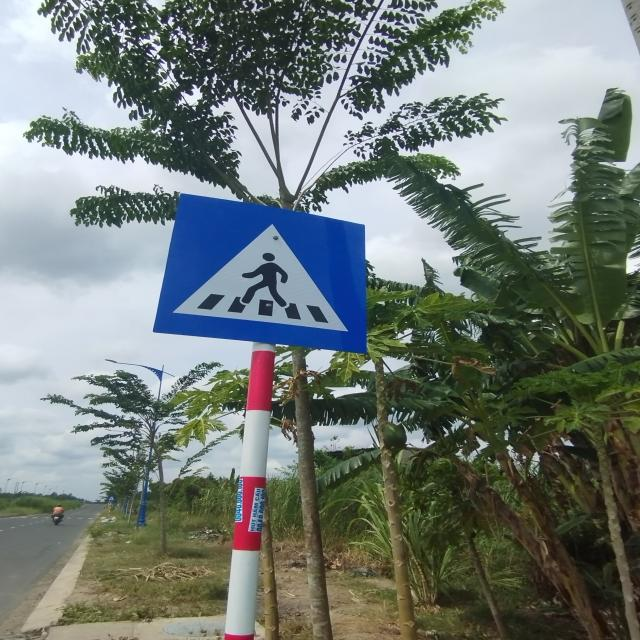Giao_Nhau_Duong_Uu_Tien: (153, 194, 370, 350)
